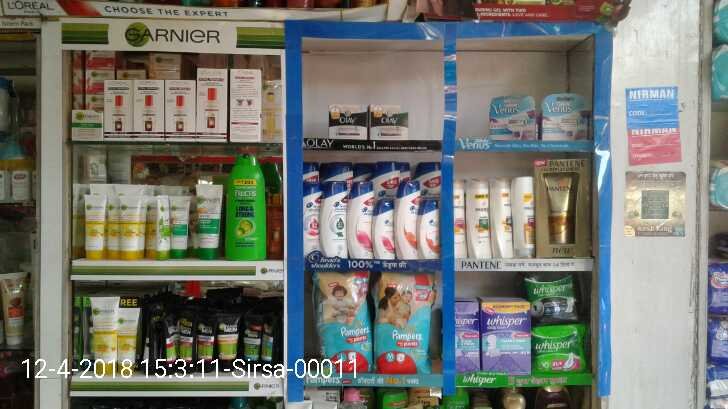venus: (542, 93, 589, 142), (489, 94, 537, 140)
